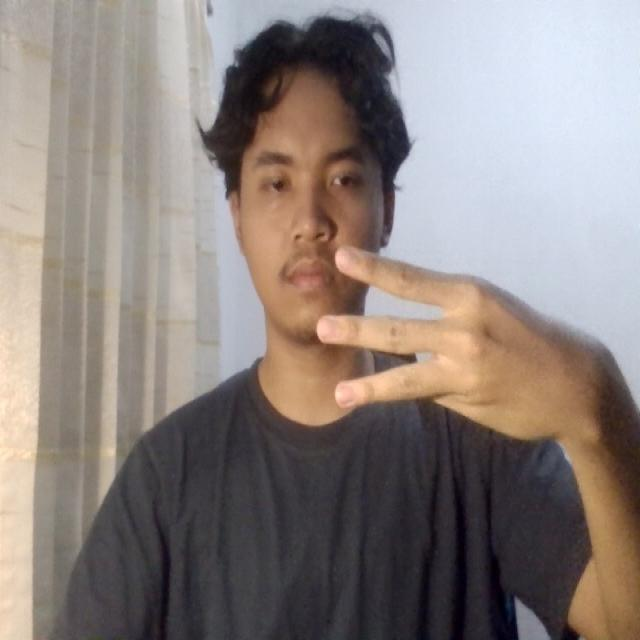E: (308, 234, 577, 454)
